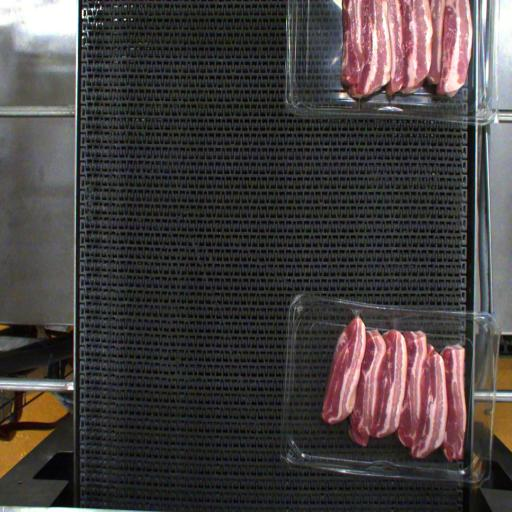packaging-error: (346, 297, 374, 325)
